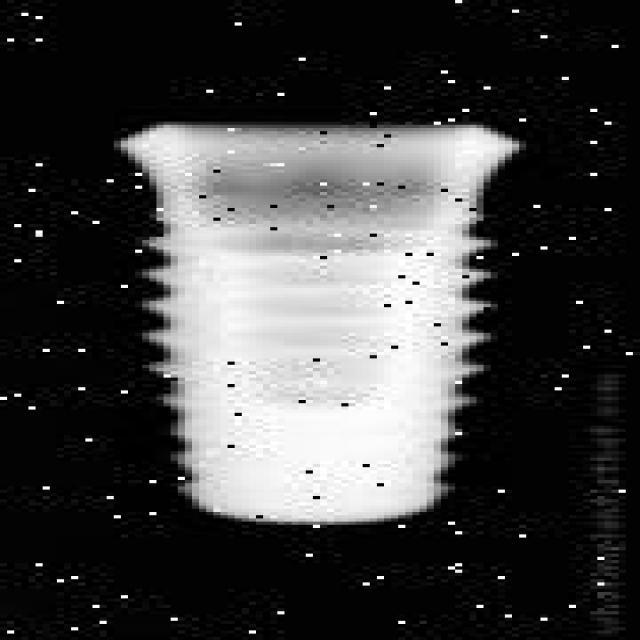Titan Implant Implant: (114, 125, 526, 528)
